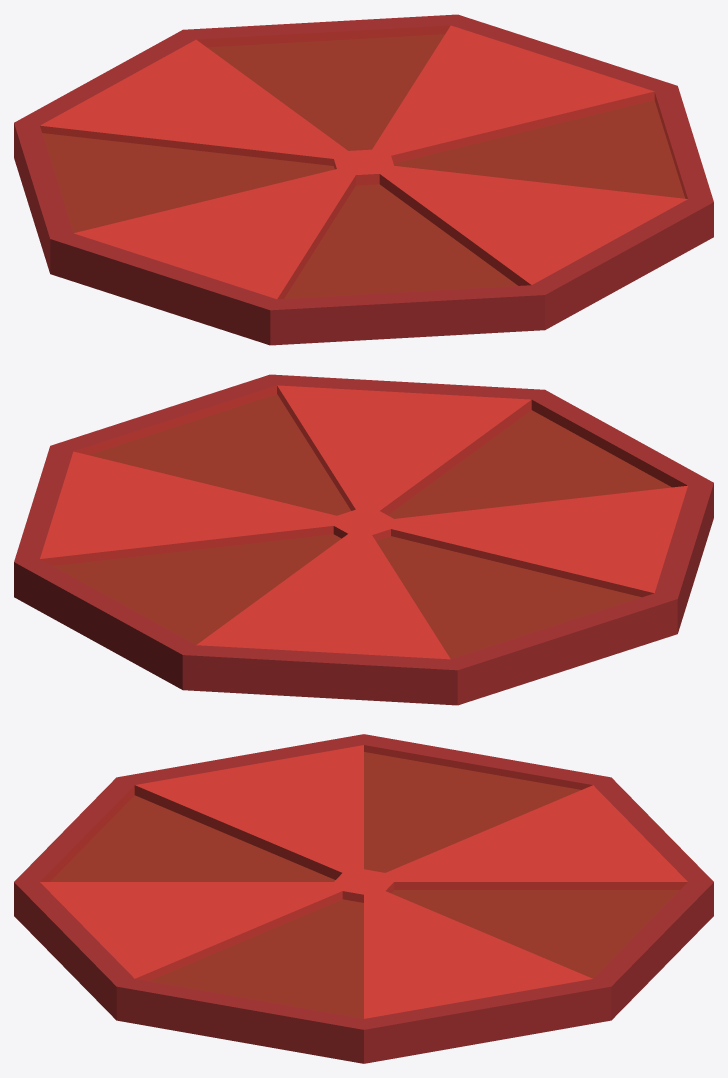
File: tomato.fbx
3 views of the same model, one above another, from view 1: azimuth 30°, elevation 25°; view 2: azimuth 150°, elevation 25°; view 3: azimuth 270°, elevation 25° (orthographic). The views are drawn at different scales.
Parts seen in each view (by area): view 1: Cylinder.001; view 2: Cylinder.001; view 3: Cylinder.001.
Boxes of the visible parts, x1,y1,x2,y2 form: Cylinder.001: (14,14,713,345); Cylinder.001: (14,374,713,705); Cylinder.001: (14,734,713,1063).
Size of the model in its own units: 200 by 10.72 by 200.
